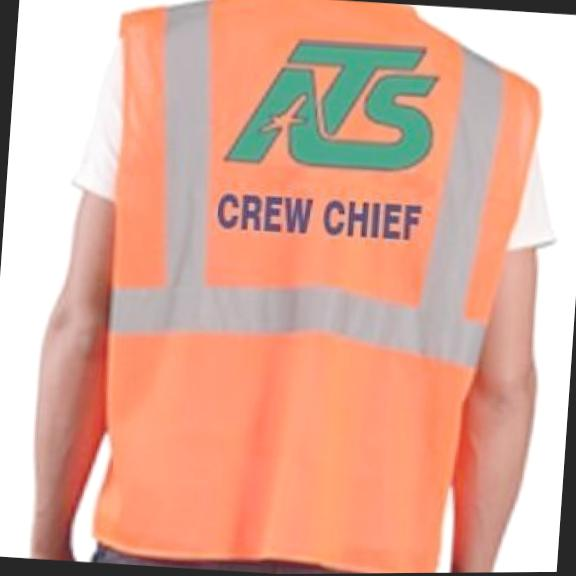safety_vest: (75, 0, 551, 575)
